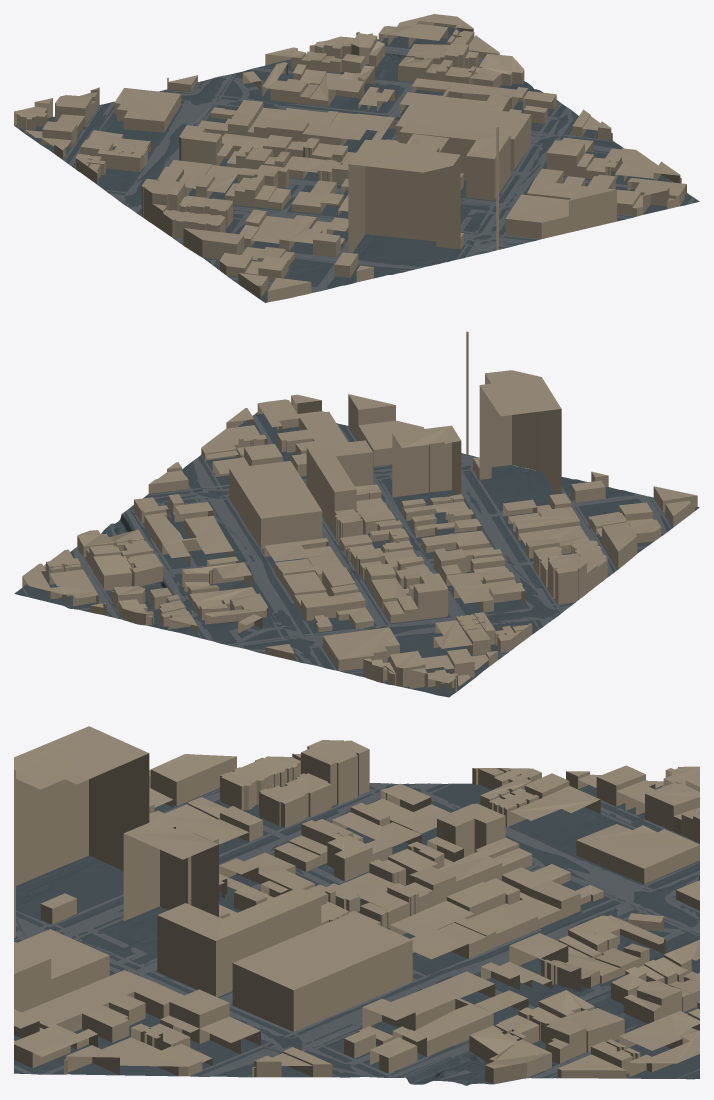
Rendered from epsg26910-1438-10889.lod0.glb.
3 renders of one model, top to bottom at view 1: azimuth 30°, elevation 25°; view 2: azimuth 150°, elevation 25°; view 3: azimuth 270°, elevation 25°, orthographic. The views are drawn at different scales.
Parts seen in each view (by area): view 1: epsg26910-1438-10889-lod0; view 2: epsg26910-1438-10889-lod0; view 3: epsg26910-1438-10889-lod0.
Boxes of the visible parts, x1,y1,x2,y2 form: epsg26910-1438-10889-lod0: [14, 14, 699, 302]; epsg26910-1438-10889-lod0: [14, 331, 699, 697]; epsg26910-1438-10889-lod0: [14, 726, 699, 1085].
Size of the model in its own units: 384 by 112 by 384.
